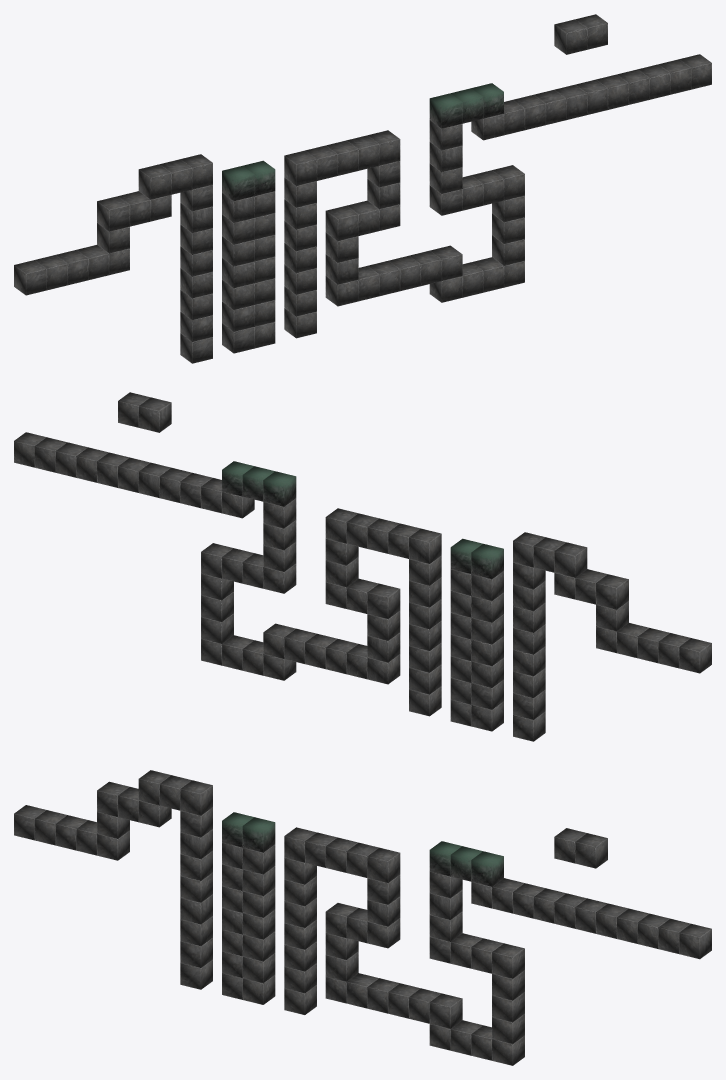
File: Decors_02.fbx
3 views of the same model, one above another, from view 1: azimuth 30°, elevation 25°; view 2: azimuth 150°, elevation 25°; view 3: azimuth 330°, elevation 25° (orthographic).
Parts seen in each view (by area): view 1: pCube56, pCube70, pCube10, pCube73, pCube7, pCube1, pCube21, pCube37, pCube52, pCube53, pCube55, pCube54 (+68 smaller); view 2: pCube56, pCube70, pCube10, pCube73, pCube7, pCube1, pCube21, pCube37, pCube52, pCube53, pCube55, pCube54 (+68 smaller); view 3: pCube81, pCube29, pCube48, pCube69, pCube12, pCube58, pCube71, pCube89, pCube53, pCube54, pCube50, pCube30 (+79 smaller).
Boxes of the visible parts, x1,y1,x2,y2 form: pCube56: (429, 93, 462, 128); pCube70: (554, 19, 587, 54); pCube10: (138, 164, 171, 199); pCube73: (325, 205, 358, 240); pCube7: (97, 196, 129, 231); pCube1: (14, 260, 46, 295); pCube21: (222, 166, 254, 201); pCube37: (284, 150, 316, 185); pCube52: (429, 120, 462, 150); pCube53: (429, 142, 462, 172); pCube55: (429, 185, 462, 215); pCube54: (429, 164, 462, 193); pCube56: (263, 471, 296, 506); pCube70: (138, 397, 171, 432); pCube10: (554, 542, 587, 577); pCube73: (367, 583, 400, 618); pCube7: (596, 574, 628, 609); pCube1: (679, 638, 711, 673); pCube21: (471, 544, 503, 579); pCube37: (409, 528, 441, 563); pCube52: (263, 498, 296, 528); pCube53: (263, 520, 296, 550); pCube55: (263, 563, 296, 593); pCube54: (263, 542, 296, 571); pCube81: (429, 993, 462, 1028); pCube29: (242, 817, 275, 852); pCube48: (367, 847, 400, 882); pCube69: (679, 923, 711, 959); pCube12: (180, 780, 212, 815); pCube58: (471, 851, 503, 886); pCube71: (575, 833, 607, 868); pCube89: (492, 943, 524, 978); pCube53: (429, 890, 462, 919); pCube54: (429, 911, 462, 941); pCube50: (367, 896, 400, 926); pCube30: (242, 844, 275, 874).
Size of the model in its own units: 3300 by 1100 by 100.
